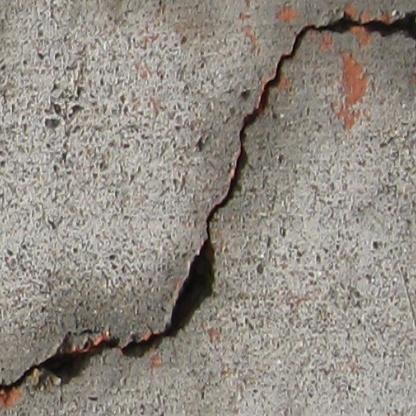Cracks: (0, 7, 416, 409)
